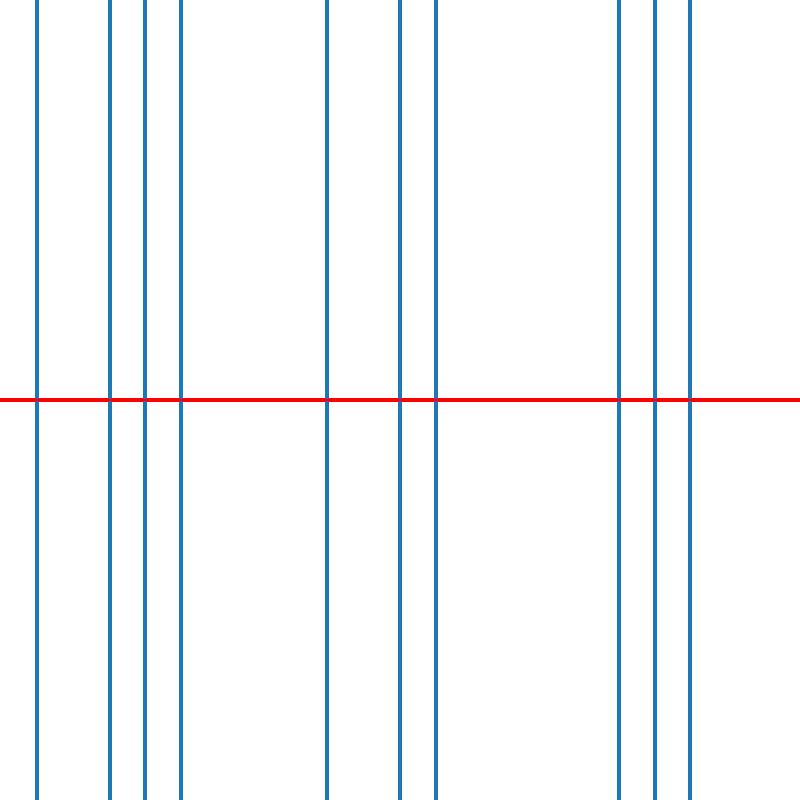root: (432, 396, 440, 404), (650, 396, 658, 404), (32, 396, 40, 404), (141, 396, 149, 404), (687, 396, 694, 404), (178, 396, 185, 404), (323, 396, 330, 404), (614, 396, 621, 404), (105, 396, 112, 404), (396, 396, 403, 404)
